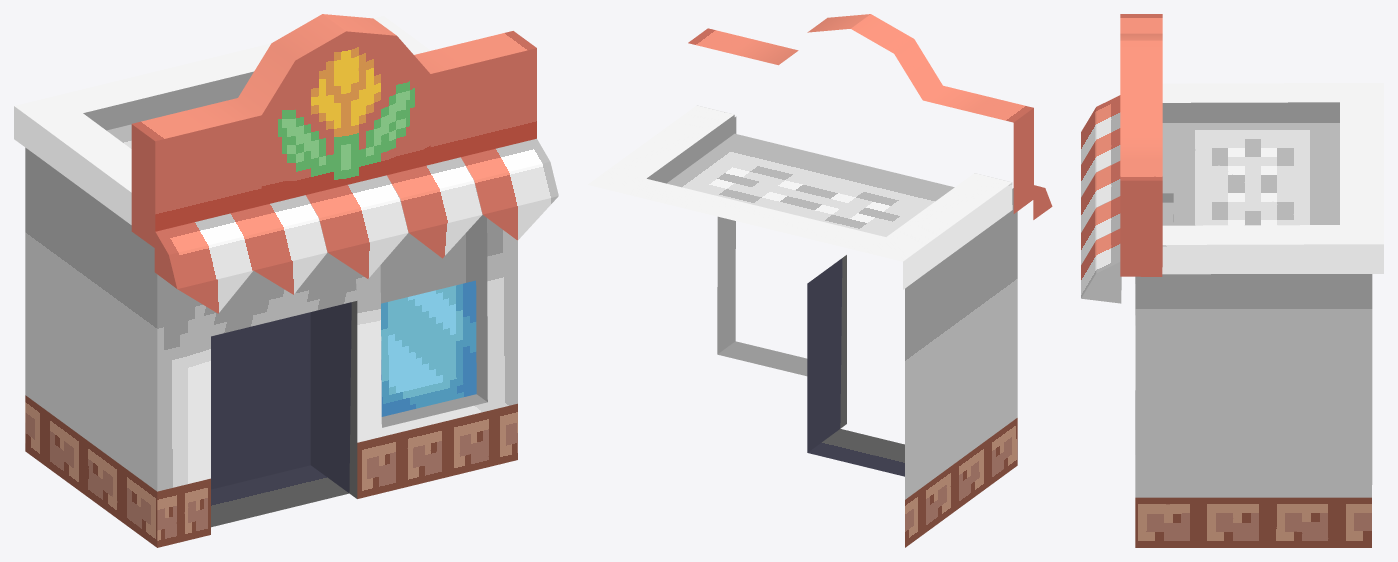
3 renders of one model, left to right at view 1: azimuth 30°, elevation 25°; view 2: azimuth 150°, elevation 25°; view 3: azimuth 270°, elevation 25°, orthographic. The views are drawn at different scales.
Size of the model in its own units: 3.56 by 4.27 by 2.73.
2 materials, 2 textured.
